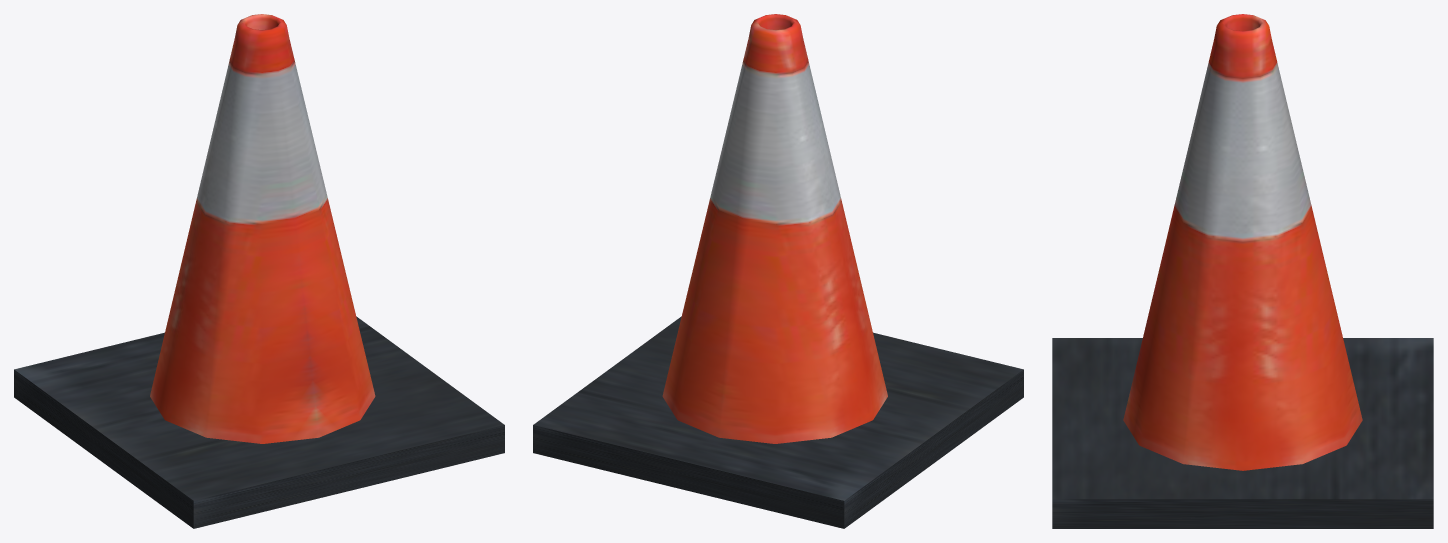
File: orangepylon.fbx
3 views of the same model, side by side, from view 1: azimuth 30°, elevation 25°; view 2: azimuth 150°, elevation 25°; view 3: azimuth 270°, elevation 25° (orthographic). The views are drawn at different scales.
Visible parts, largest first — view 1: ChamferTube01, Box01; view 2: ChamferTube01, Box01; view 3: ChamferTube01, Box01.
Boxes of the visible parts, <box> form: ChamferTube01: <box>150,14,375,443</box>; Box01: <box>14,316,504,528</box>; ChamferTube01: <box>662,14,887,443</box>; Box01: <box>533,316,1023,528</box>; ChamferTube01: <box>1123,14,1362,470</box>; Box01: <box>1052,338,1433,528</box>.
Bounding box in the file's own units: 35.43 × 43.76 × 35.43.
